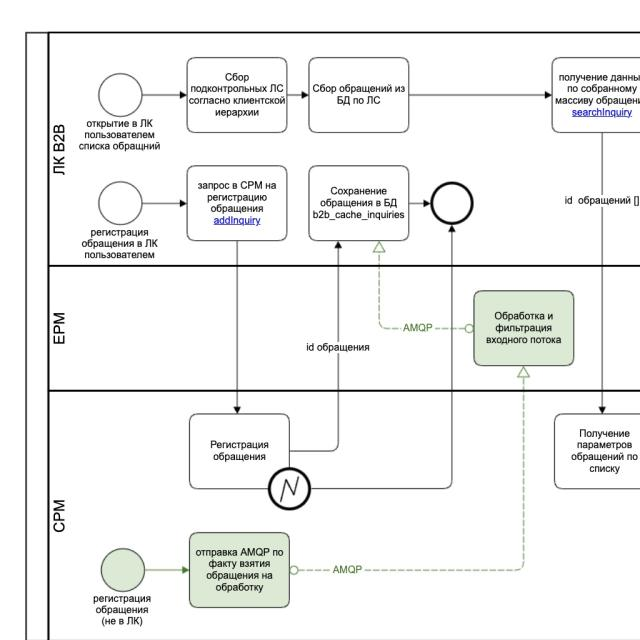arrow: (290, 367, 529, 574), (290, 240, 344, 455), (374, 242, 474, 333), (596, 132, 607, 414), (231, 241, 241, 412), (409, 91, 551, 99), (143, 197, 187, 211), (144, 565, 192, 575), (143, 91, 186, 101), (289, 91, 309, 100)
circle: (101, 549, 144, 591), (99, 74, 142, 116), (430, 182, 473, 224), (268, 467, 311, 509), (99, 182, 142, 224)
rectangle: (185, 55, 290, 133), (309, 166, 409, 241), (189, 533, 289, 608), (190, 414, 289, 489), (309, 58, 409, 132), (187, 166, 287, 240), (474, 291, 573, 365), (555, 414, 639, 488)
text_region: (560, 190, 640, 210), (300, 338, 372, 354), (399, 315, 440, 335), (326, 558, 363, 577)
